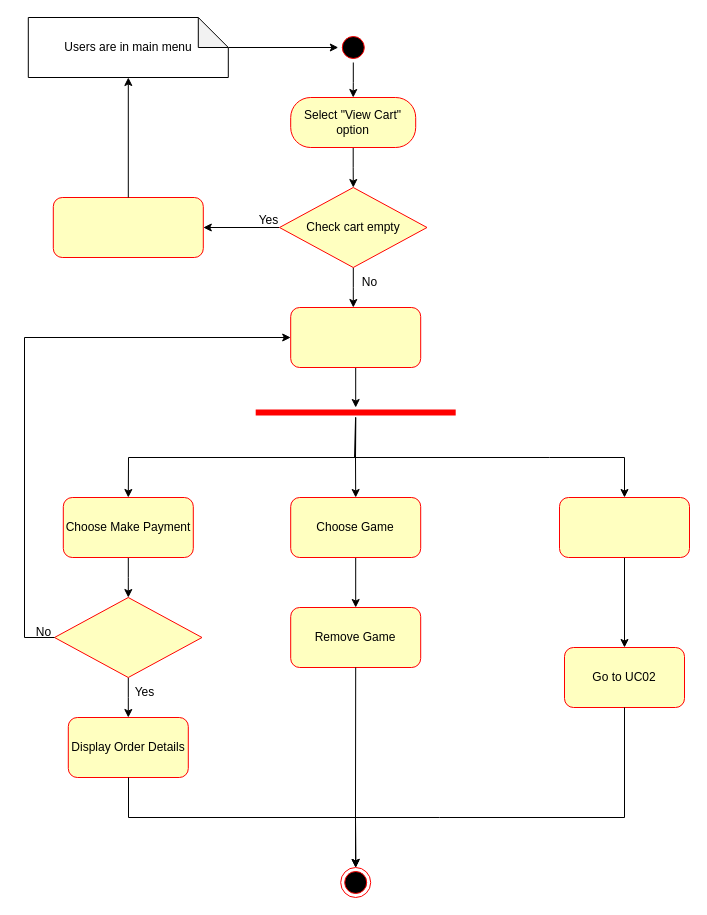
Image size: 707x915. Some labels were removed from this diagram. The box of each missing label's shape, as (x1, y1, x2, y2) in pixels:
Choose Continue to shopping: (558, 496, 690, 558)
Displays message "Your Cart is empty": (52, 196, 203, 258)
Displays the games user add and total price: (290, 306, 421, 368)
If enough money: (54, 596, 202, 678)
